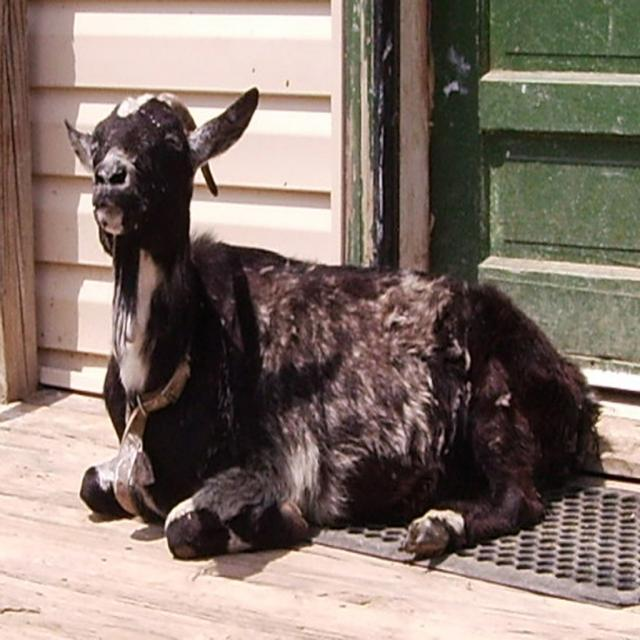Goat: (86, 105, 582, 556)
